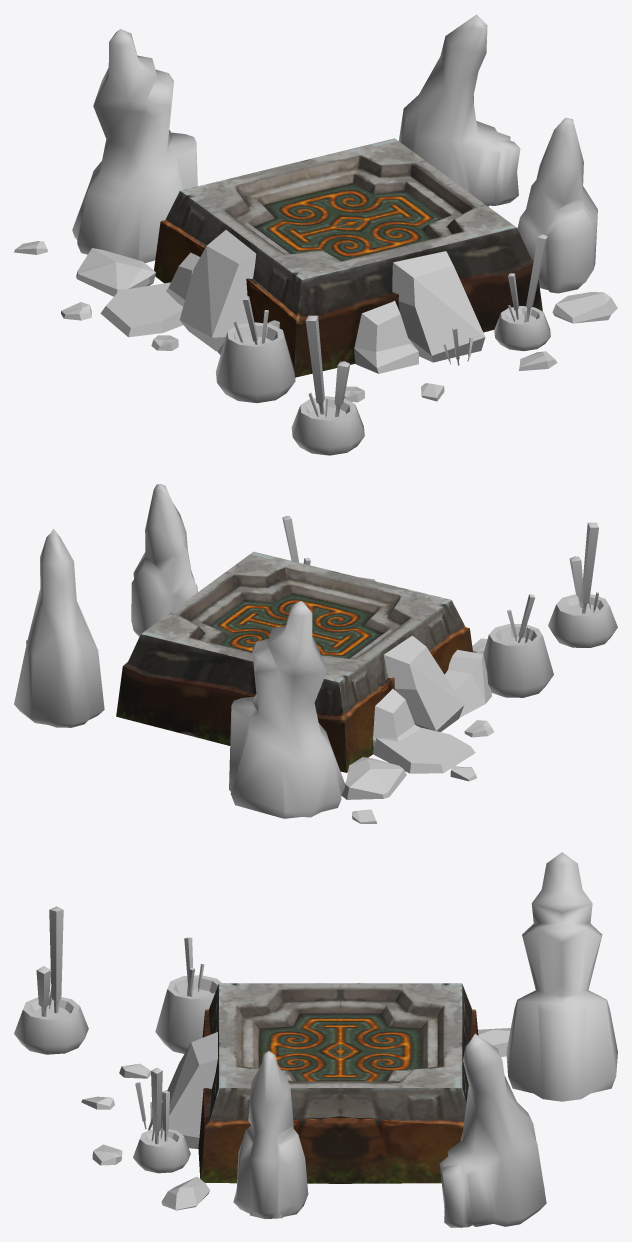
Rendered from Map01_Stone_Group_02.FBX.
3 views of the same model, one above another, from view 1: azimuth 30°, elevation 25°; view 2: azimuth 150°, elevation 25°; view 3: azimuth 270°, elevation 25° (orthographic). The views are drawn at different scales.
Parts seen in each view (by area): view 1: Map01_Stone_Group_02; view 2: Map01_Stone_Group_02; view 3: Map01_Stone_Group_02.
Boxes of the visible parts, bbox=[...] form: Map01_Stone_Group_02: bbox=[14, 14, 617, 455]; Map01_Stone_Group_02: bbox=[14, 484, 617, 823]; Map01_Stone_Group_02: bbox=[14, 852, 617, 1227].
Size of the model in its own units: 65.52 by 28.98 by 73.73.
